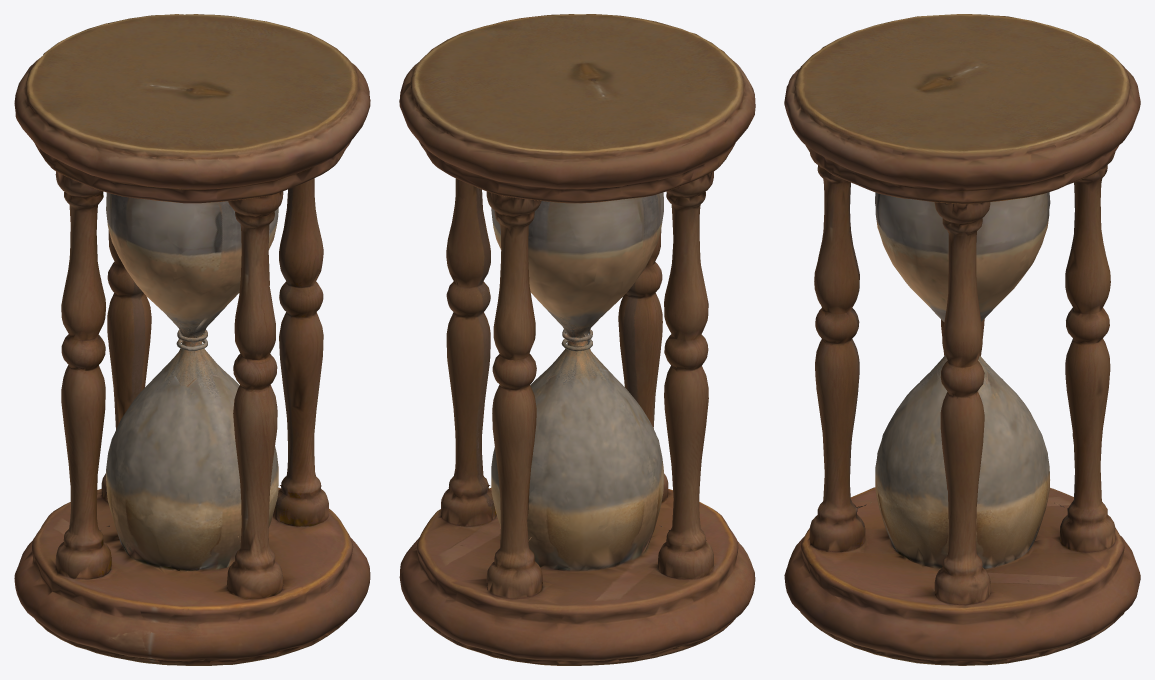
File: sablier.glb
3 views of the same model, side by side, from view 1: azimuth 30°, elevation 25°; view 2: azimuth 150°, elevation 25°; view 3: azimuth 270°, elevation 25° (orthographic).
Visible parts, largest first — view 1: Mesh_0; view 2: Mesh_0; view 3: Mesh_0.
Boxes of the visible parts, x1,y1,x2,y2 form: Mesh_0: (14,14,370,665); Mesh_0: (399,14,755,665); Mesh_0: (784,14,1140,665).
Size of the model in its own units: 1.2 by 1.9 by 1.2.
1 material, 1 textured.
